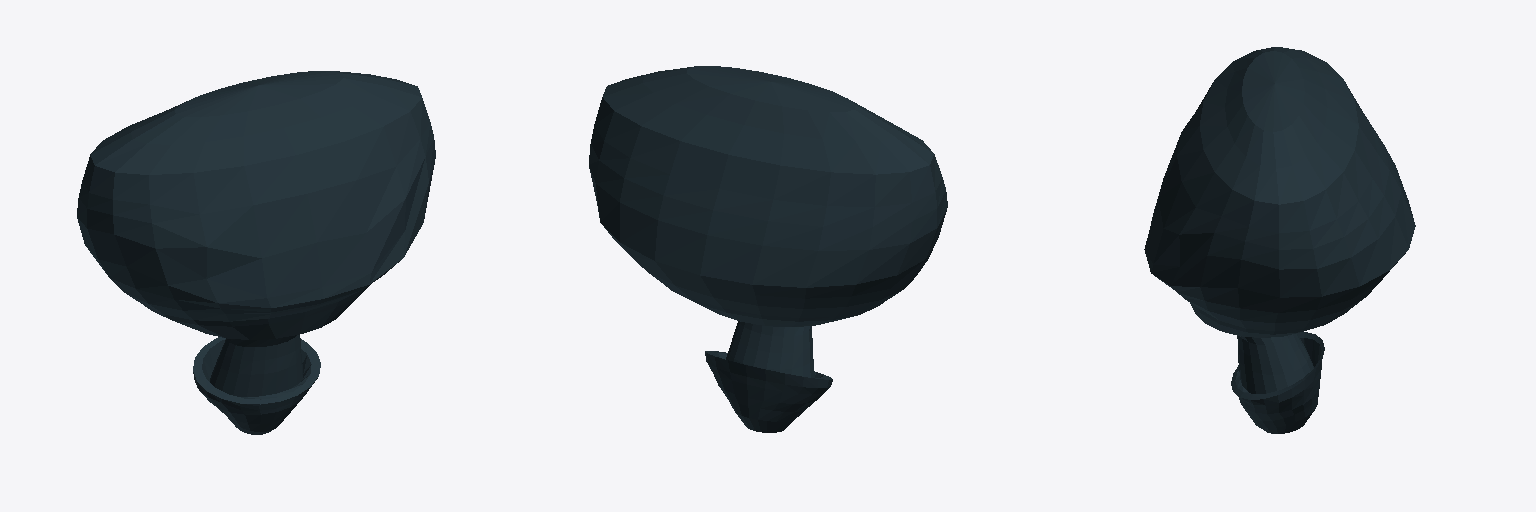
The model's file is robot_body_test.obj.
3 renders of one model, left to right at view 1: azimuth 30°, elevation 25°; view 2: azimuth 150°, elevation 25°; view 3: azimuth 270°, elevation 25°, orthographic.
Visible parts, largest first — view 1: spine_base; view 2: spine_base; view 3: spine_base.
Boxes of the visible parts, x1=… form: spine_base: x1=77, y1=71, x2=435, y2=434; spine_base: x1=589, y1=66, x2=947, y2=432; spine_base: x1=1144, y1=47, x2=1415, y2=433.
Size of the model in its own units: 8.58 by 8.36 by 5.96.